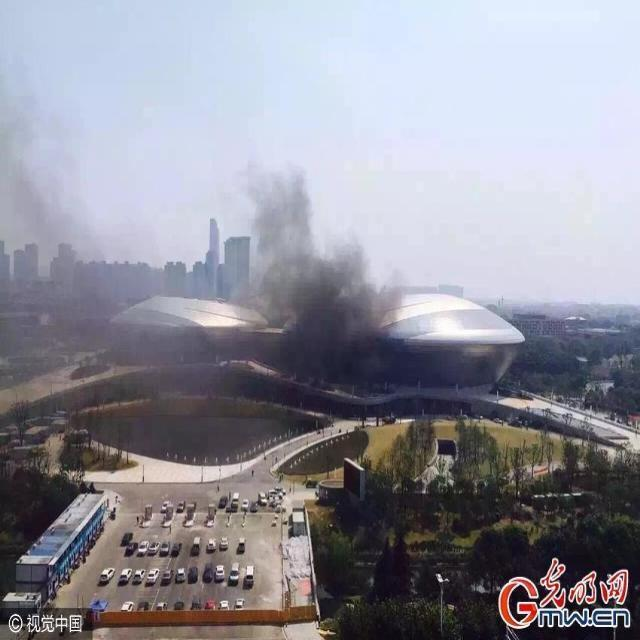Smoke: (0, 51, 208, 362), (231, 156, 405, 397)
